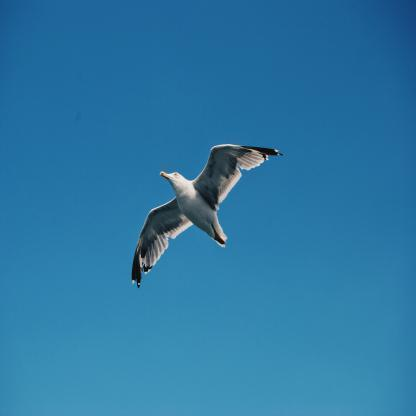bird: (132, 144, 284, 288)
